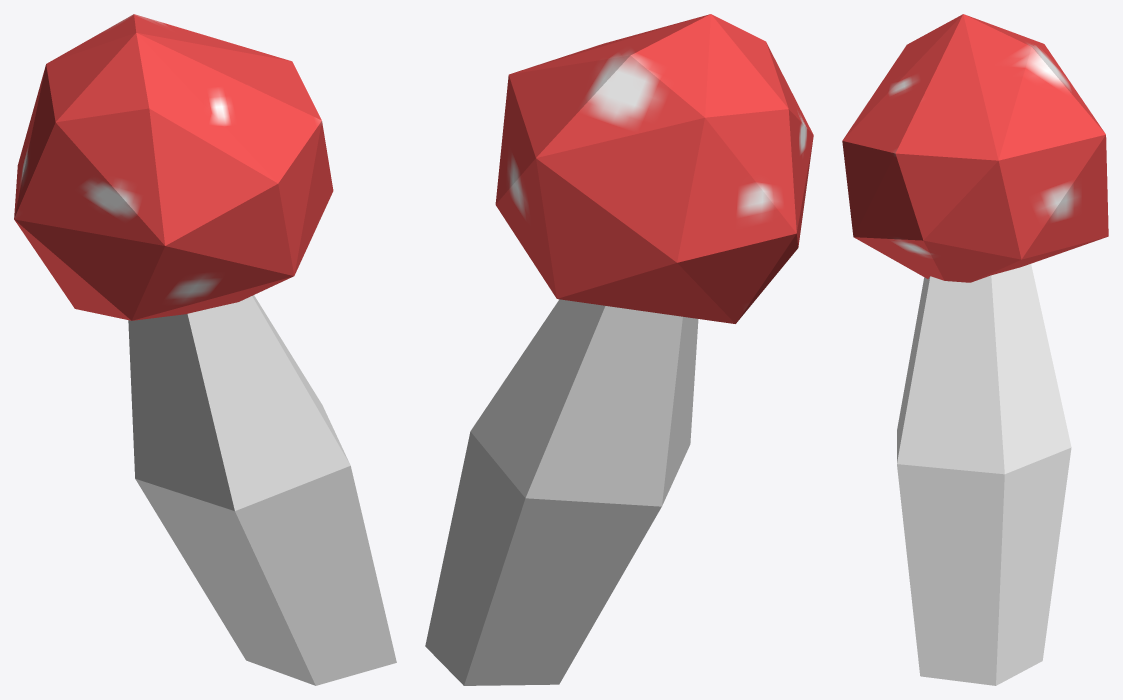
File: Mushroom_e_05.fbx
3 views of the same model, side by side, from view 1: azimuth 30°, elevation 25°; view 2: azimuth 150°, elevation 25°; view 3: azimuth 270°, elevation 25° (orthographic). The views are drawn at different scales.
Visible parts, largest first — view 1: Mushroom_e_05; view 2: Mushroom_e_05; view 3: Mushroom_e_05.
Part boxes in pixels (x1,y1,x2,y2): Mushroom_e_05: [14, 14, 396, 685]; Mushroom_e_05: [425, 14, 813, 685]; Mushroom_e_05: [842, 14, 1108, 685].
Size of the model in its own units: 0.1124 by 0.1991 by 0.0845.
